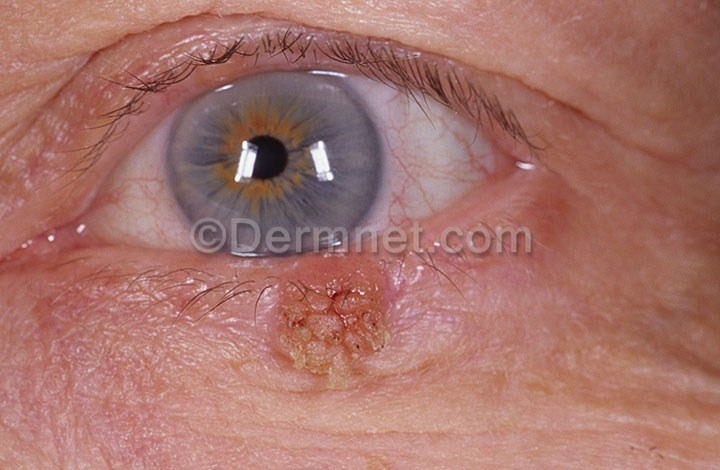Warts: (228, 265, 429, 396)
